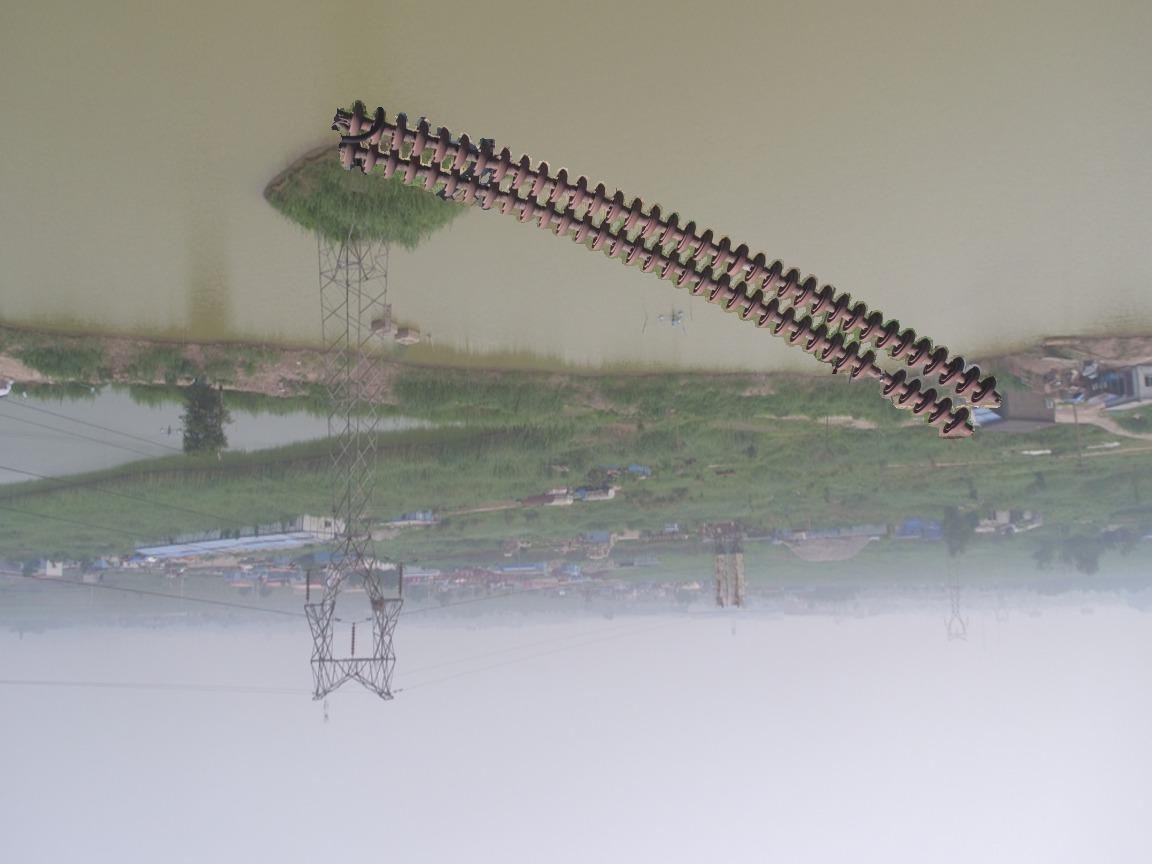insulator: (329, 99, 1005, 443)
insulator_stringdrop: (848, 348, 911, 401)
